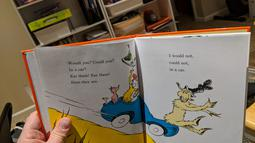text block: (64, 58, 118, 89), (165, 49, 196, 75)
